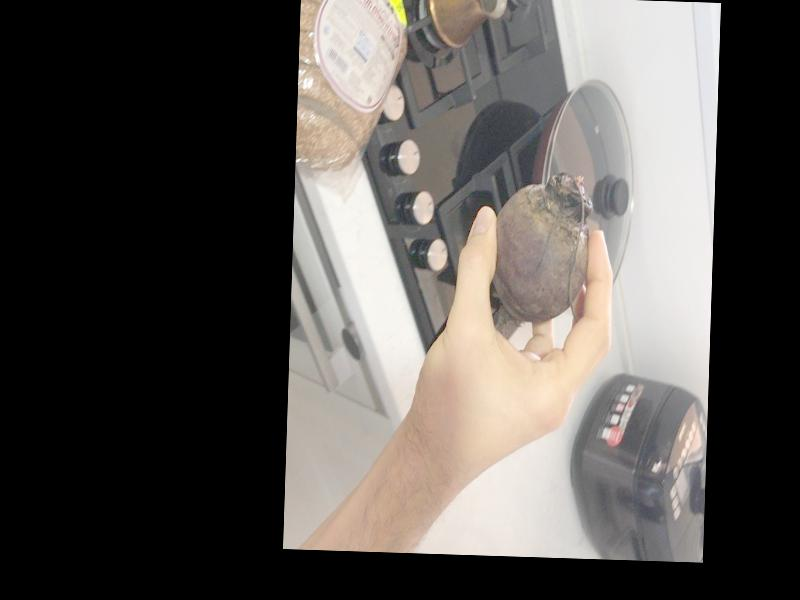Beet: (492, 170, 591, 333)
